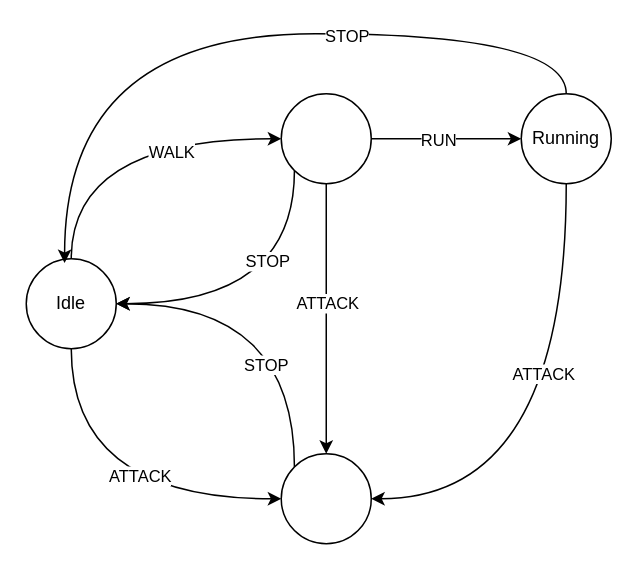
This 638x570 diagram has some shape labels left out. The shapes that lost their labels are listed below. From the top down, each one's centre as x and y in pixels, then its label:
At [325,138]: "Walking".
At [325,498]: "Attacking".
